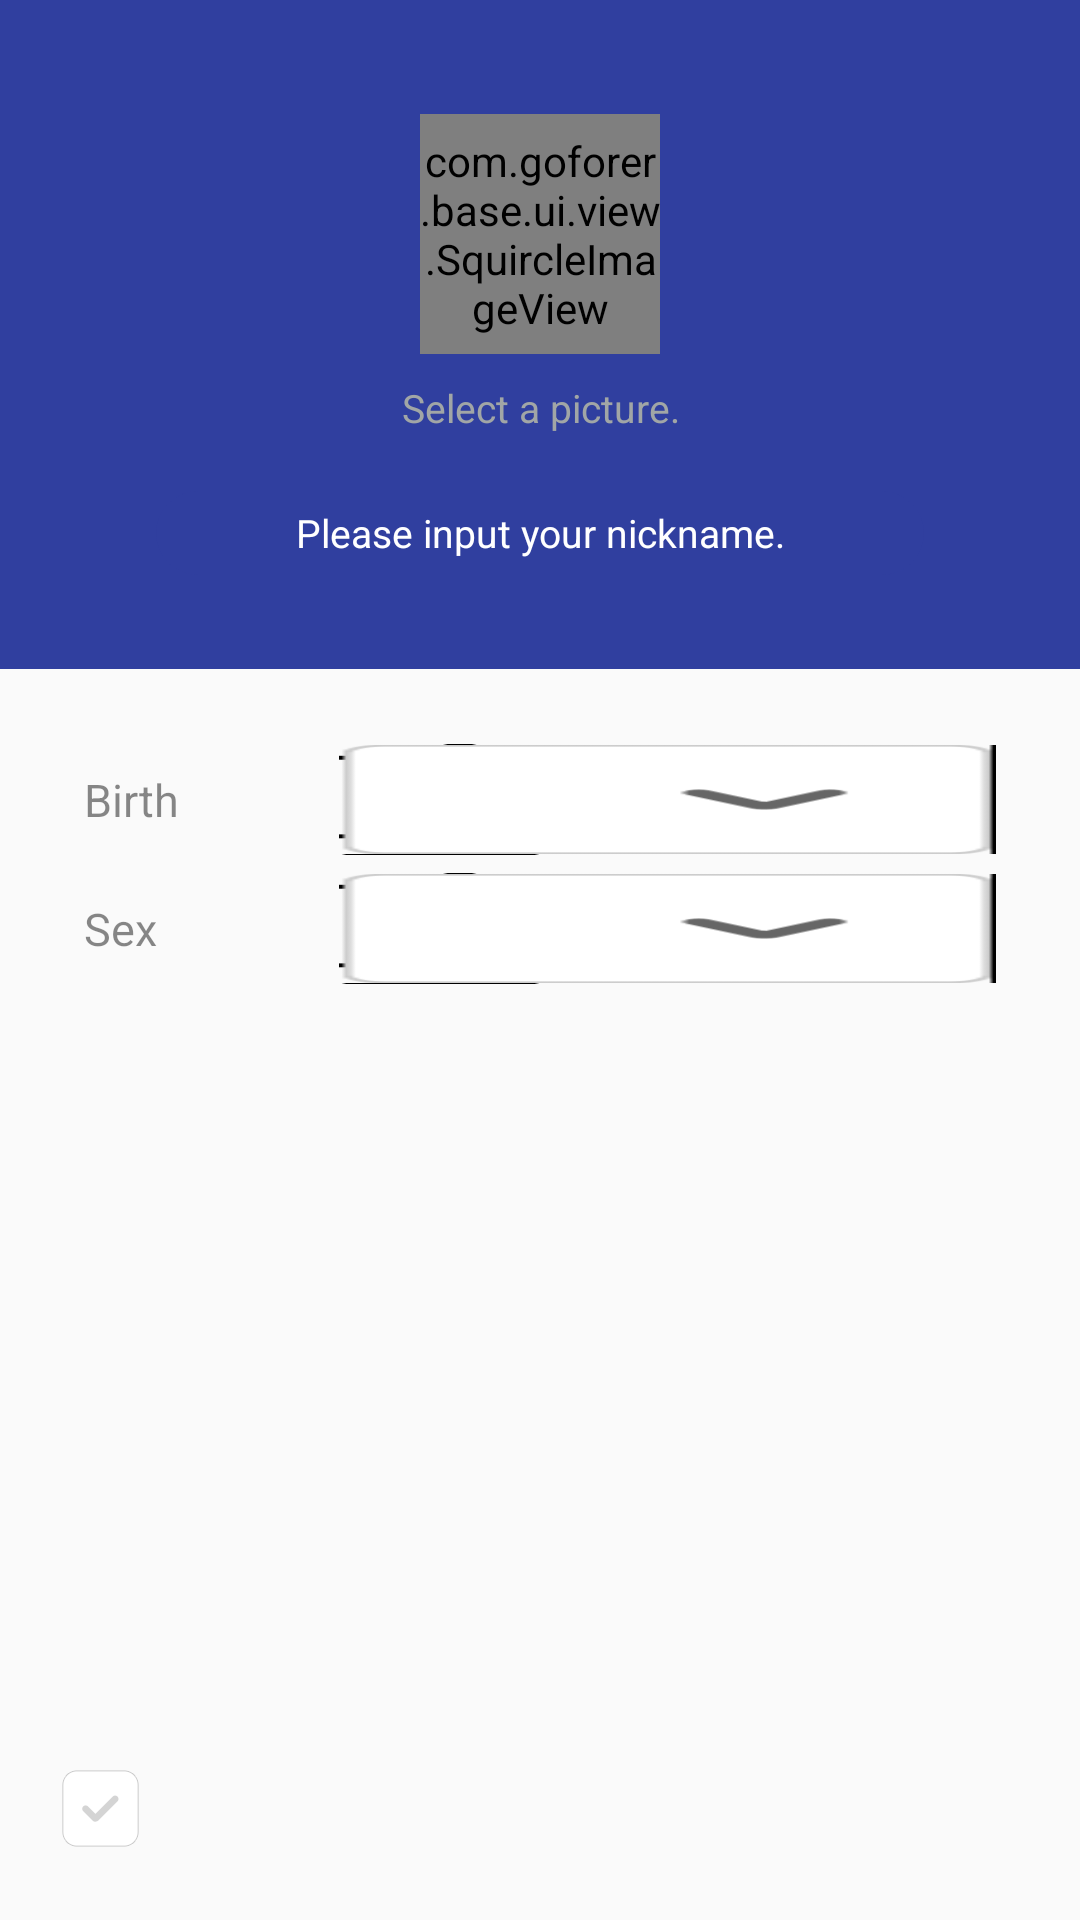

Icons on this 1080 x 1920 Android screen, each with the point to tap as (x=x, y=y):
signup check agree: (x=100, y=1808)
